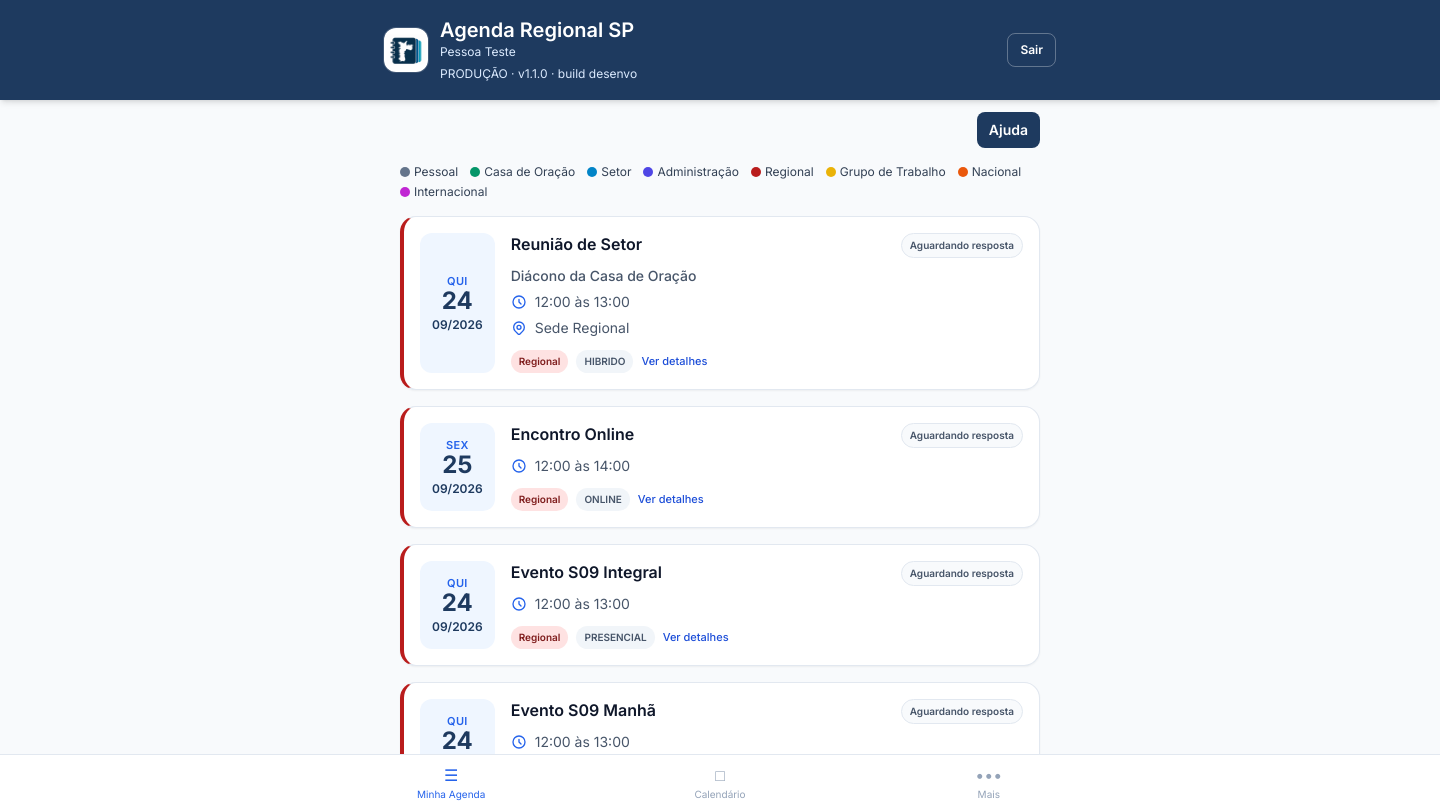
Test: S07 - Minha Agenda e Calendário › 8. Abre detalhe pela Minha Agenda e verifica conteúdo (HIBRIDO/PRESENCIAL)
This screenshot has width=1440, height=810.
Note: Aguarda o botão do card aparecer e clica semanticamente no elemento interativo
Step 1. Click the button "Reunião de Setor" → click(457, 303), box [400,216,1040,390]
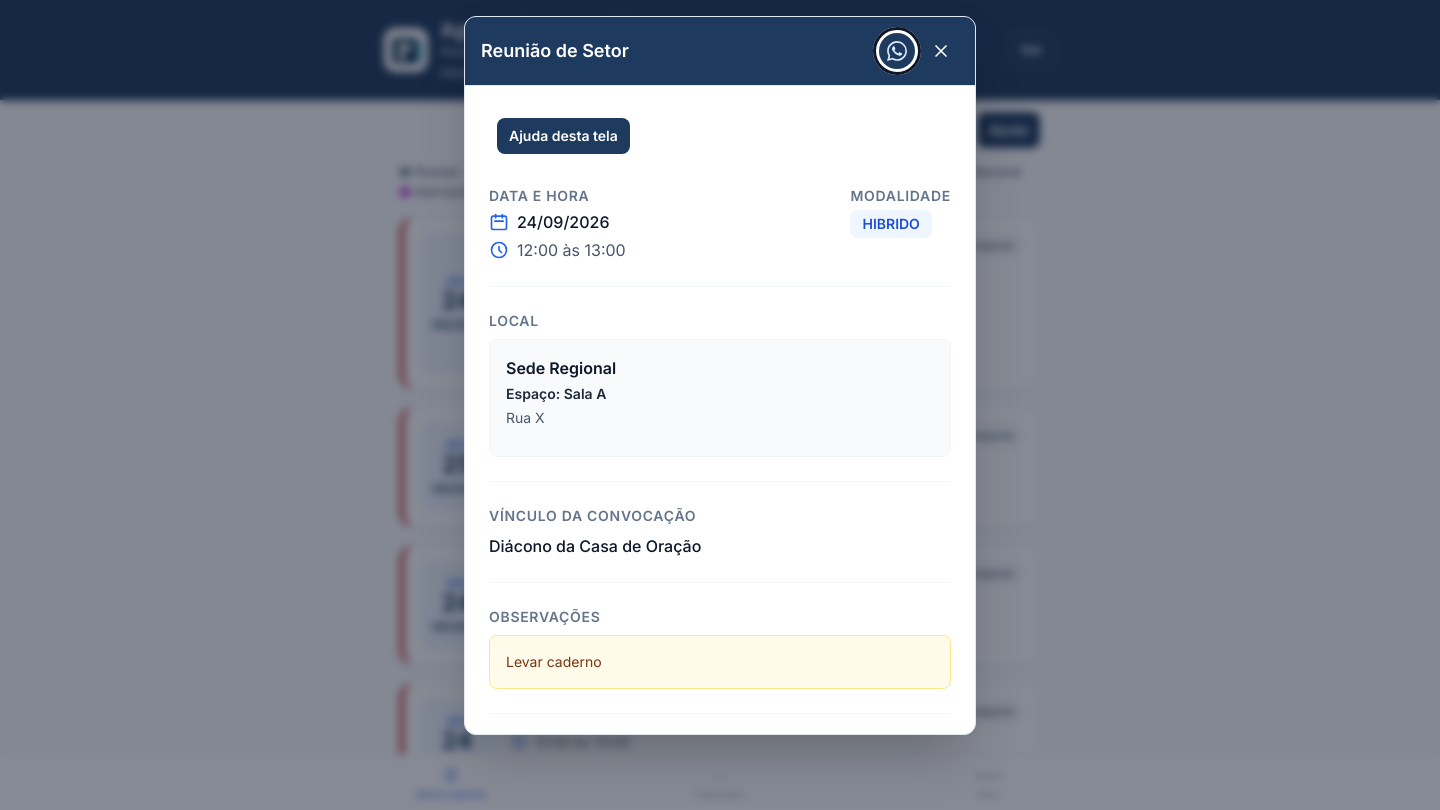
Result: the dialog is shown at [464,16,976,735]
Result: the text "Sede Regional" is shown at [506,358,616,378]
Result: the text "Rua X" is shown at [506,409,545,426]
Note: Fechar modal usando escopo do dialog
Step 2. Click the button named "Fechar detalhes" → click(941, 51), box [923,33,959,69]
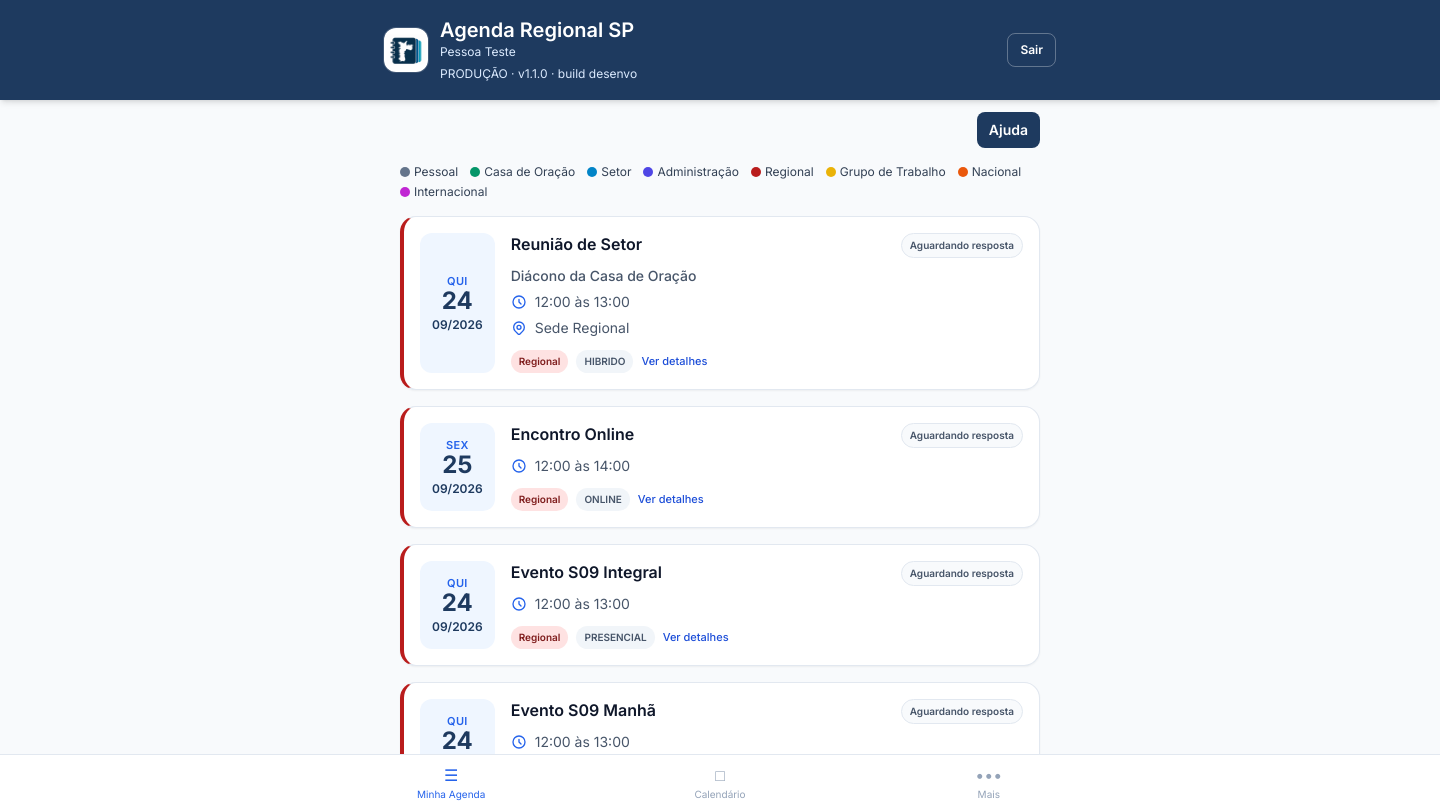
Result: the dialog is gone
